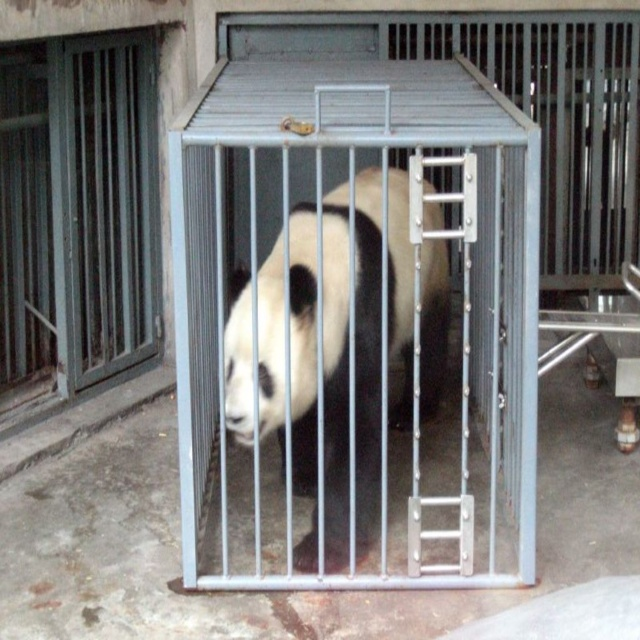Panda: (224, 167, 452, 574)
